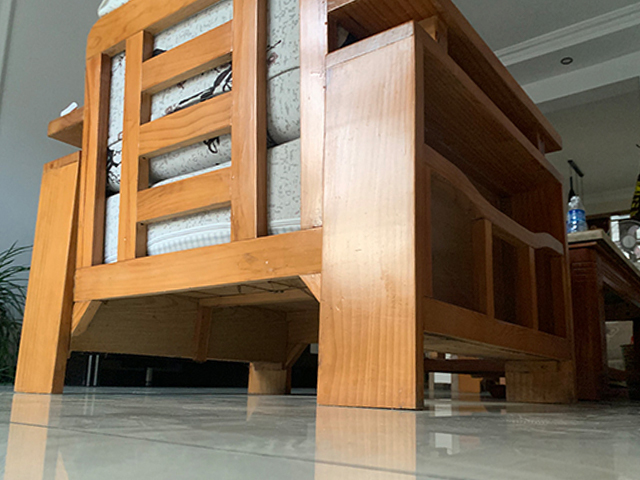sofa: (12, 1, 579, 412)
table: (569, 227, 640, 405)
